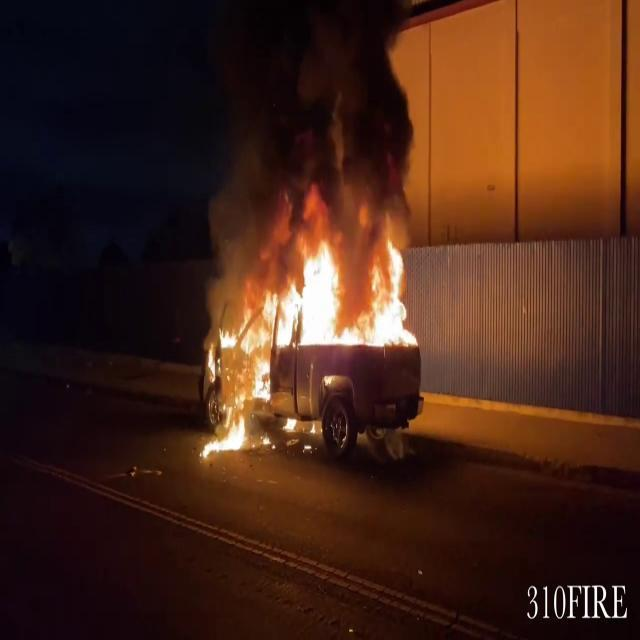Fire: (202, 220, 418, 450)
Smoke: (196, 0, 427, 262)
